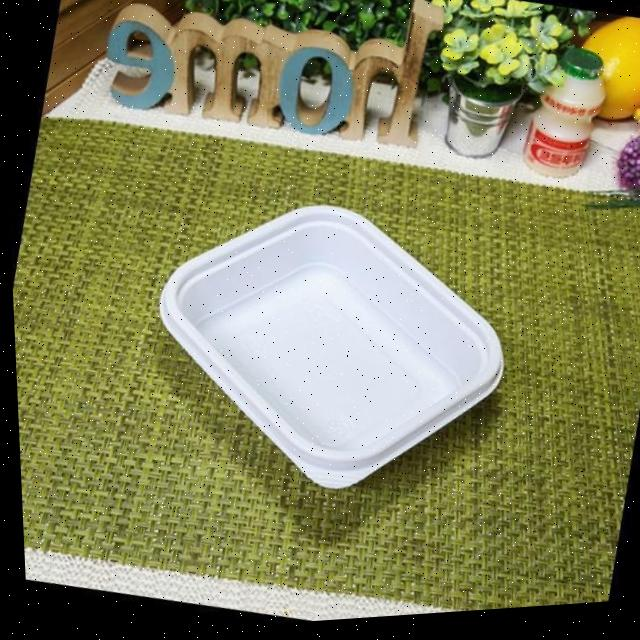disposable: (146, 169, 526, 524)
